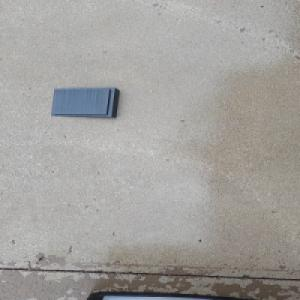PlasticPart: (49, 86, 121, 118)
